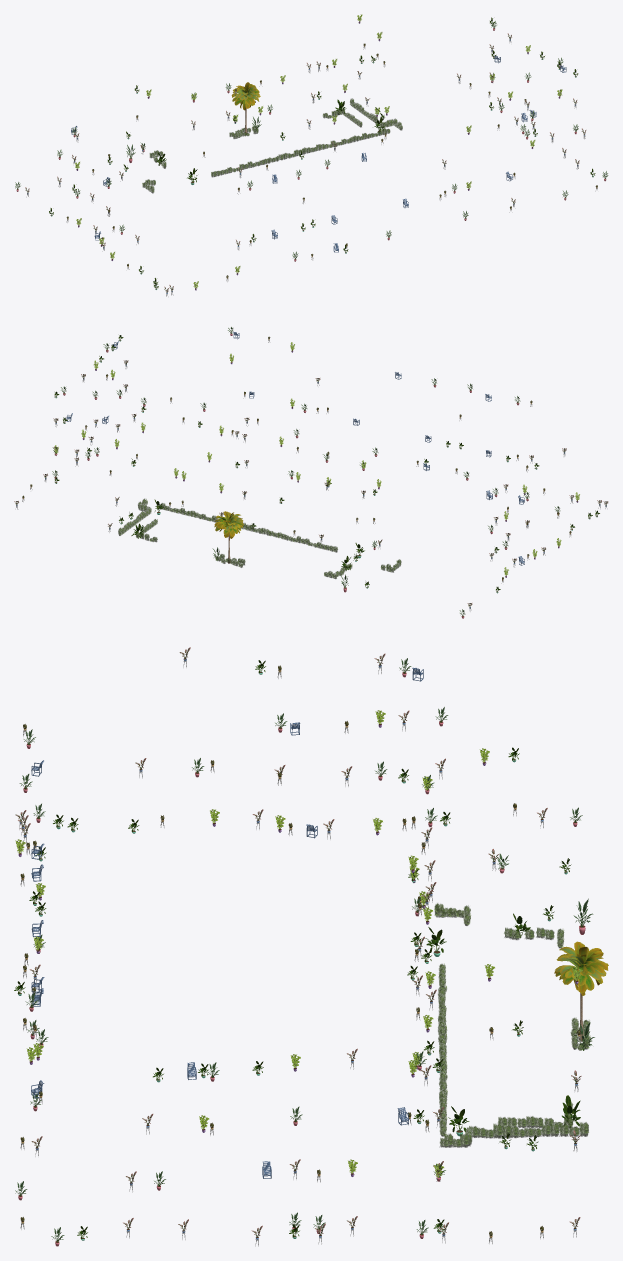
The model's file is KWEC_plants.glb.
The picture shows the model from 3 angles, top to bottom: view 1: azimuth 30°, elevation 25°; view 2: azimuth 150°, elevation 25°; view 3: azimuth 270°, elevation 25°; orthographic projection. The views are drawn at different scales.
Parts seen in each view (by area): view 1: plant_build; view 2: plant_build; view 3: plant_build.
Part boxes in pixels (x1=…): plant_build: x1=15, y1=14, x2=608, y2=296; plant_build: x1=14, y1=327, x2=608, y2=618; plant_build: x1=14, y1=647, x2=608, y2=1246.
Size of the model in its own units: 59.46 by 11.87 by 35.07.
11 materials, 11 textured.
